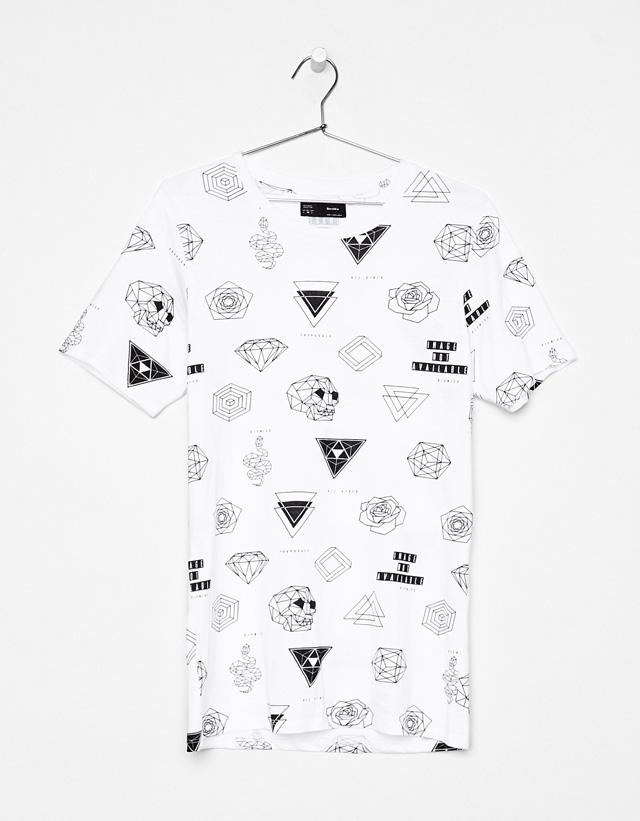teeshirt: (65, 151, 600, 794)
